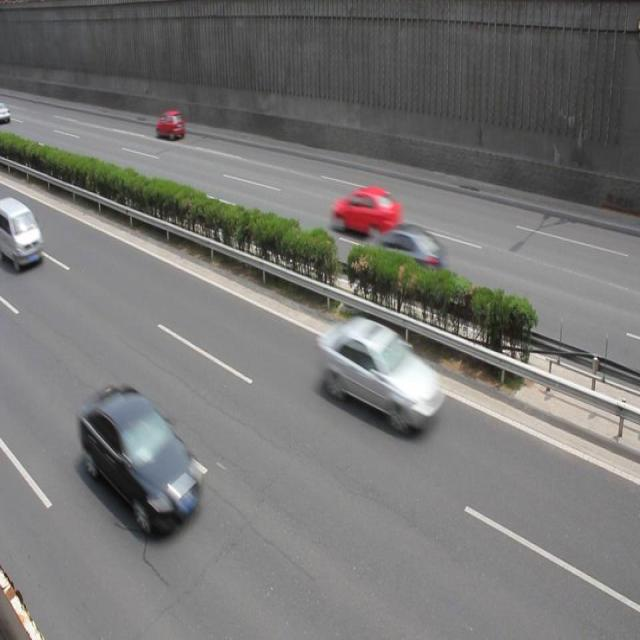car: (78, 387, 204, 539), (319, 314, 447, 436), (361, 223, 447, 291), (330, 187, 403, 242), (0, 196, 44, 273), (154, 108, 184, 141)
